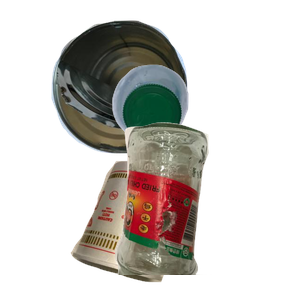glass: (112, 120, 300, 300)
metal: (49, 18, 229, 164)
plastic: (110, 62, 300, 198)
trash: (68, 158, 235, 300)
